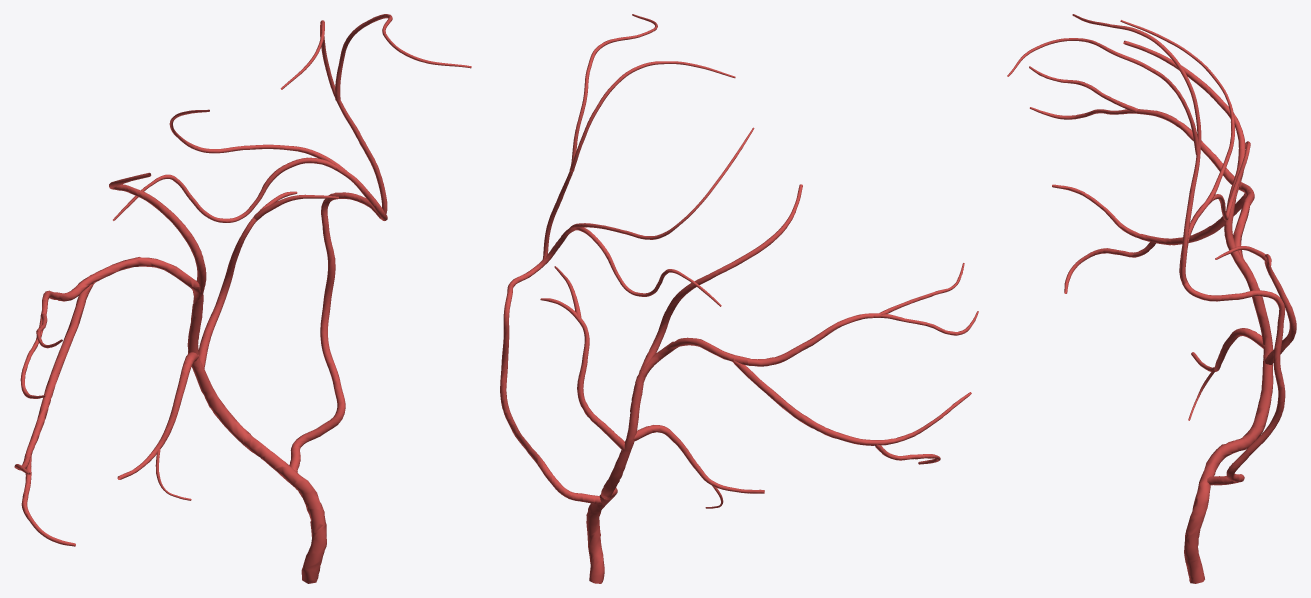
3 views of the same model, side by side, from view 1: azimuth 30°, elevation 25°; view 2: azimuth 150°, elevation 25°; view 3: azimuth 270°, elevation 25° (orthographic). The views are drawn at different scales.
Visible parts, largest first — view 1: 右侧小脑下后动脉; view 2: 右侧小脑下后动脉; view 3: 右侧小脑下后动脉.
Part boxes in pixels (x1,y1,x2,y2): 右侧小脑下后动脉: [14, 14, 471, 583]; 右侧小脑下后动脉: [500, 14, 978, 583]; 右侧小脑下后动脉: [1007, 14, 1296, 583].
Size of the model in its own units: 0.069 by 0.0884 by 0.0422.
